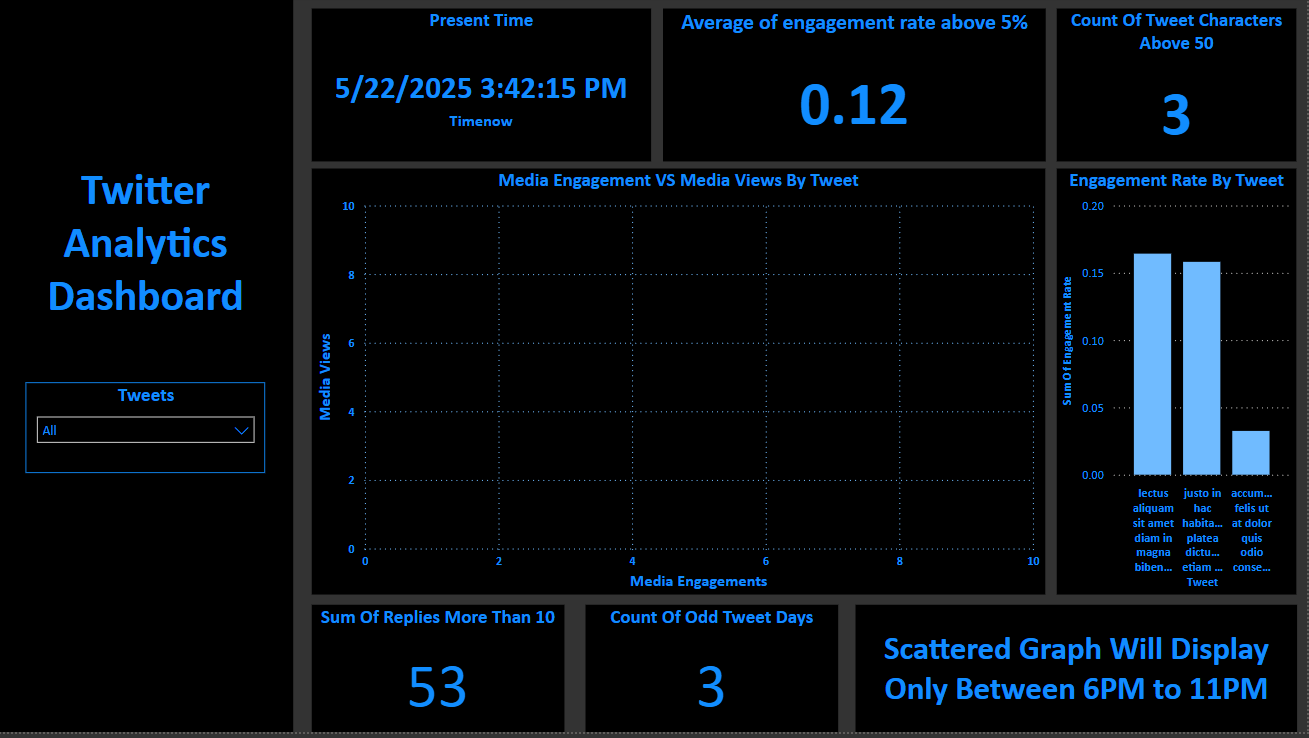

Layout of this report page (visuals, bound fields, positions):
{"tool":"powerbi","page":{"name":"Page 2","canvas":[1280,720],"ordinal":1},"visuals":[{"type":"textbox","box":[0,0,288.8,720],"z":0},{"type":"scatterChart","title":"Media Engagement VS Media Views By Tweet","fields":{"Category":["SocialMedia (2).Tweet"],"X":["Sum(SocialMedia (2).media engagements)"],"Y":["Sum(SocialMedia (2).media views)"]},"box":[307.4,168.8,717.7,417.2],"z":1},{"type":"card","title":"Present Time","fields":{"Values":["SocialMedia (2).now"]},"box":[307.4,12.3,332.1,149.6],"z":2},{"type":"card","title":"Average of engagement rate above 5%","fields":{"Values":["Sum(SocialMedia (2).engagement rate)"]},"box":[650.4,12.3,374.6,149.6],"z":3},{"type":"card","title":"Count Of Tweet Characters Above 50","fields":{"Values":["CountNonNull(SocialMedia (2).Tweet)"]},"box":[1036,12.3,234.6,149.6],"z":4},{"type":"slicer","title":"Tweets","fields":{"Values":["SocialMedia (2).Tweet"]},"box":[27.4,377.4,234.6,89.2],"z":5},{"type":"clusteredColumnChart","title":"Engagement Rate By Tweet","fields":{"Category":["SocialMedia (2).Tweet"],"Y":["Sum(SocialMedia (2).engagement rate)"]},"box":[1036,168.8,234.6,417.2],"z":6},{"type":"card","title":"Sum Of Replies More Than 10","fields":{"Values":["Sum(SocialMedia (2).replies)"]},"box":[307.4,595.1,247,124.9],"z":7},{"type":"card","title":"Count Of Odd Tweet Days","fields":{"Values":["CountNonNull(SocialMedia (2).Date)"]},"box":[575,595.1,247,124.9],"z":8},{"type":"textbox","box":[838.4,595.1,432.2,124.9],"z":9}]}

Visuals, with their boxes in screenshot pixels (x1, y1, x2, y2), scaled from the page's 1280x720 canvas onto the 1309x738 screenshot:
textbox: [left=0, top=0, right=295, bottom=737]
"Media Engagement VS Media Views By Tweet" scatterChart: [left=314, top=173, right=1048, bottom=601]
"Present Time" card: [left=314, top=13, right=654, bottom=166]
"Average of engagement rate above 5%" card: [left=665, top=13, right=1048, bottom=166]
"Count Of Tweet Characters Above 50" card: [left=1059, top=13, right=1299, bottom=166]
"Tweets" slicer: [left=28, top=387, right=268, bottom=478]
"Engagement Rate By Tweet" clusteredColumnChart: [left=1059, top=173, right=1299, bottom=601]
"Sum Of Replies More Than 10" card: [left=314, top=610, right=567, bottom=737]
"Count Of Odd Tweet Days" card: [left=588, top=610, right=841, bottom=737]
textbox: [left=857, top=610, right=1299, bottom=737]
